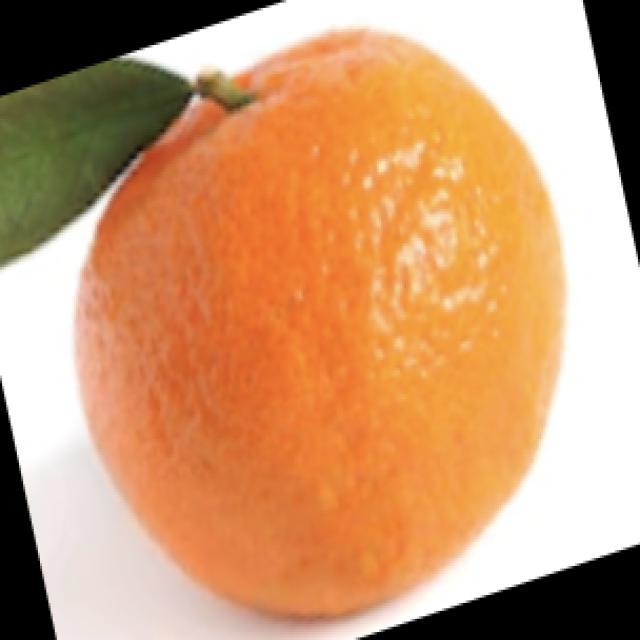matang: (78, 30, 562, 614)
